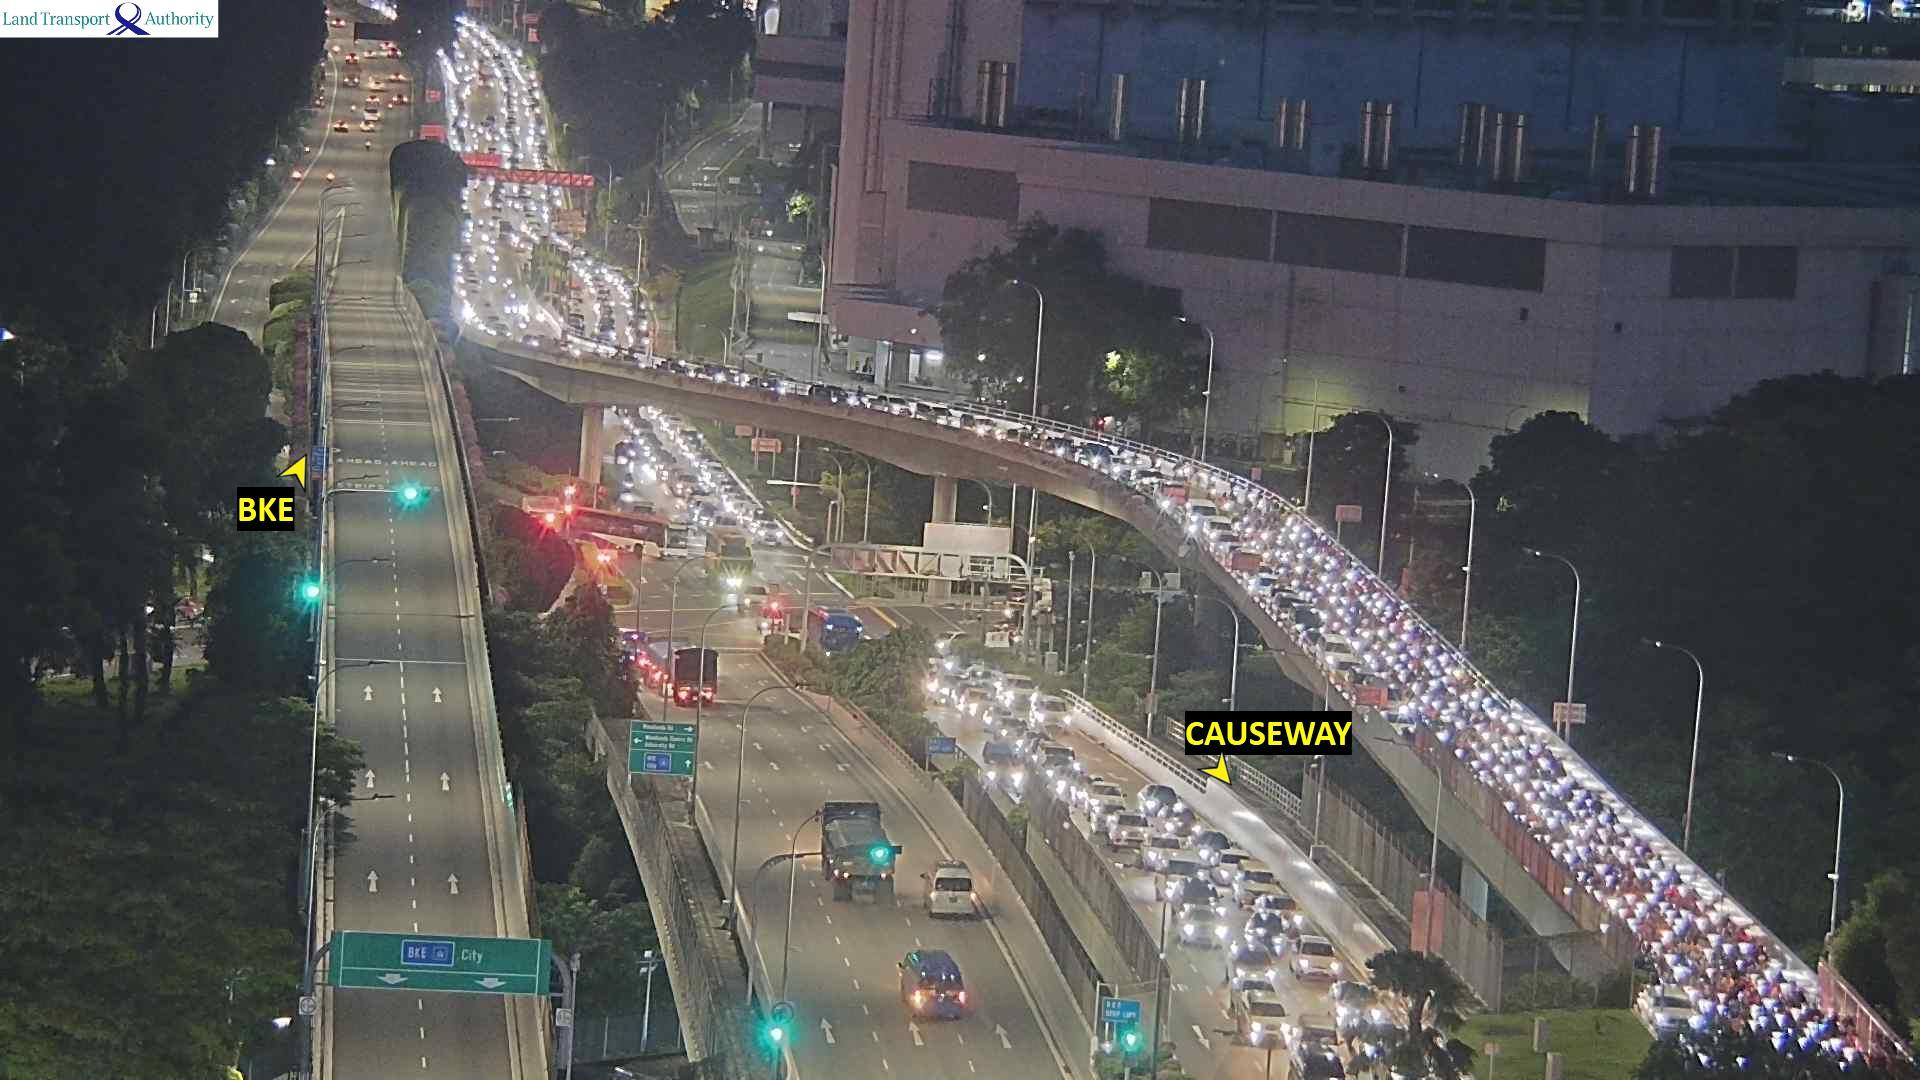vehicle-causeway-johor: (810, 604, 861, 652), (1241, 993, 1287, 1043), (710, 528, 754, 578), (1163, 861, 1206, 911), (1293, 936, 1336, 978), (1645, 985, 1689, 1026), (1292, 1043, 1339, 1080), (1185, 910, 1223, 951), (1231, 945, 1273, 981), (1174, 878, 1212, 917), (1236, 863, 1274, 900), (1233, 974, 1269, 1011), (1113, 816, 1152, 849), (1192, 830, 1236, 859), (1004, 678, 1040, 712), (1146, 833, 1178, 871), (1089, 783, 1123, 818), (1059, 773, 1100, 802), (1139, 784, 1174, 816), (1291, 607, 1326, 639), (809, 387, 863, 407), (1038, 698, 1068, 734), (1319, 633, 1351, 665), (960, 414, 1002, 437), (1275, 592, 1306, 623), (695, 498, 729, 526), (1250, 915, 1282, 944), (740, 584, 773, 612), (981, 744, 1026, 764), (933, 670, 964, 699), (1038, 747, 1074, 770), (966, 665, 1002, 688), (1076, 445, 1109, 469), (879, 394, 911, 417), (685, 483, 712, 510), (961, 691, 987, 719), (1186, 500, 1215, 525), (664, 463, 693, 488), (753, 523, 784, 545), (655, 452, 683, 476), (1104, 456, 1135, 477), (916, 403, 947, 424), (675, 474, 703, 497), (932, 629, 966, 647), (1046, 438, 1072, 461), (595, 291, 618, 317), (1231, 557, 1266, 574), (639, 430, 663, 453), (648, 440, 673, 462), (716, 474, 741, 496), (687, 445, 712, 467), (1206, 518, 1233, 538), (700, 459, 724, 481), (705, 511, 734, 529), (676, 430, 700, 451), (597, 347, 632, 361), (724, 490, 748, 510), (506, 293, 526, 313), (658, 358, 684, 373), (1218, 538, 1242, 554), (628, 302, 645, 324), (630, 322, 648, 342), (745, 508, 765, 525), (487, 320, 509, 334), (524, 332, 540, 351), (465, 299, 488, 312), (1575, 847, 1592, 864), (1676, 965, 1691, 984), (1535, 758, 1554, 773), (1572, 826, 1589, 842), (455, 249, 474, 263), (558, 335, 573, 352), (597, 304, 615, 318), (1549, 812, 1563, 829), (463, 272, 480, 285), (1660, 931, 1673, 948), (1603, 873, 1616, 889), (1646, 892, 1659, 908), (501, 277, 514, 292), (1476, 749, 1491, 762), (1555, 843, 1568, 858), (1592, 864, 1608, 876), (628, 418, 649, 427), (512, 232, 525, 245), (1740, 940, 1754, 952), (1499, 770, 1509, 786), (1635, 901, 1647, 913), (1437, 729, 1448, 741), (1663, 873, 1675, 884), (597, 329, 613, 337), (487, 278, 499, 288), (488, 255, 499, 265), (1679, 912, 1689, 923), (1402, 702, 1409, 717), (491, 268, 499, 274)
vehicle-causeway-singapore: (823, 805, 907, 900), (902, 948, 977, 1019), (917, 862, 988, 920), (665, 692, 712, 707)
